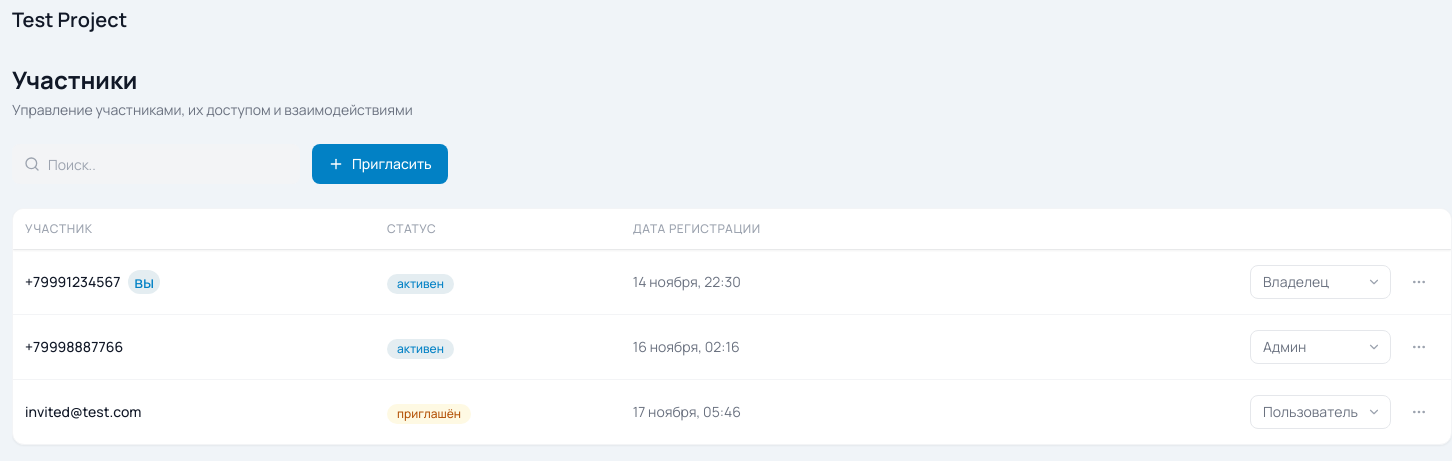
it: Members › filters members by search query
Type "invited@test.com" into the field with placeholder "Поиск..".
click(156, 164); type("invited@test.com")  # box [12,144,300,184]
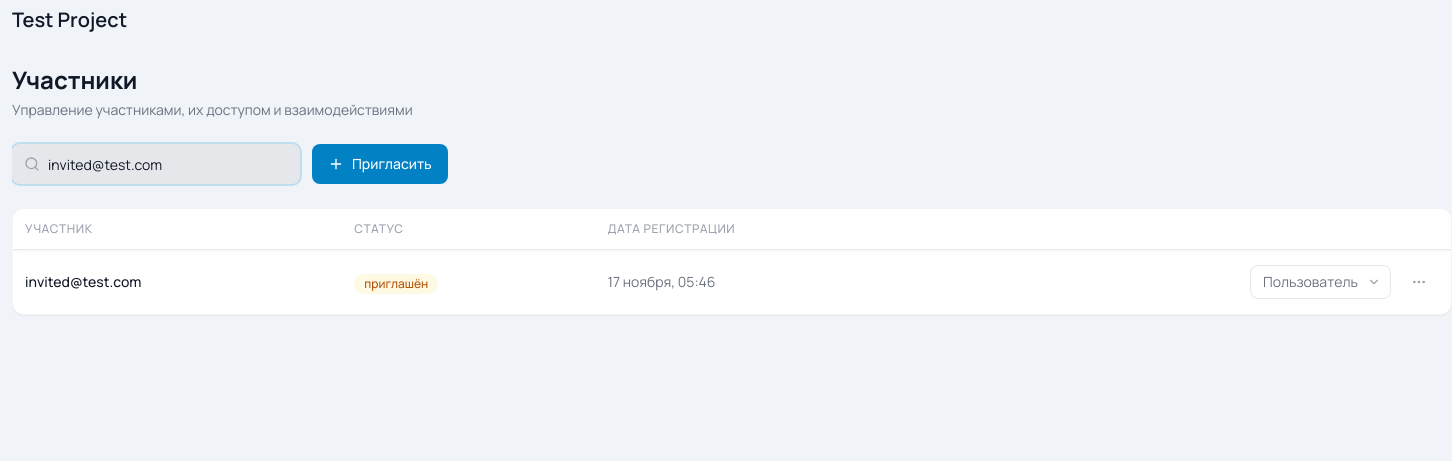
Expected: the text "invited@test.com" is shown, [25,272,141,292]
Expected: the text "+79991234567" is gone
